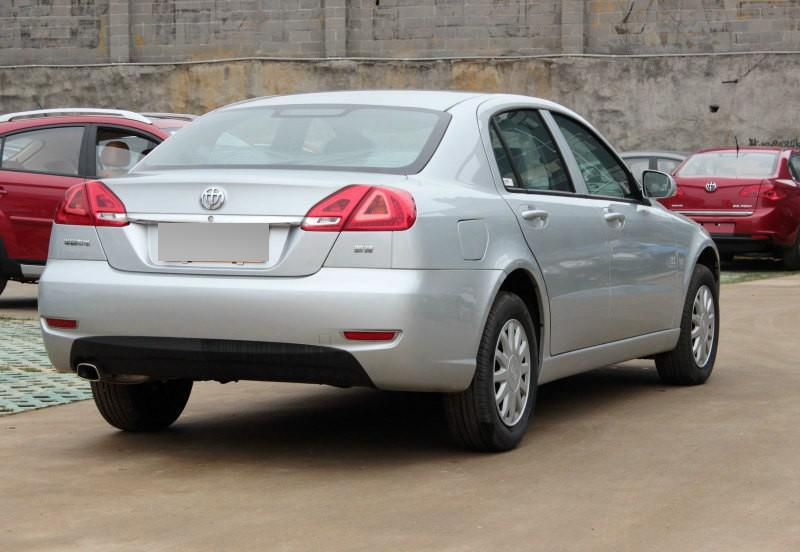Wagon: (37, 89, 721, 454)
